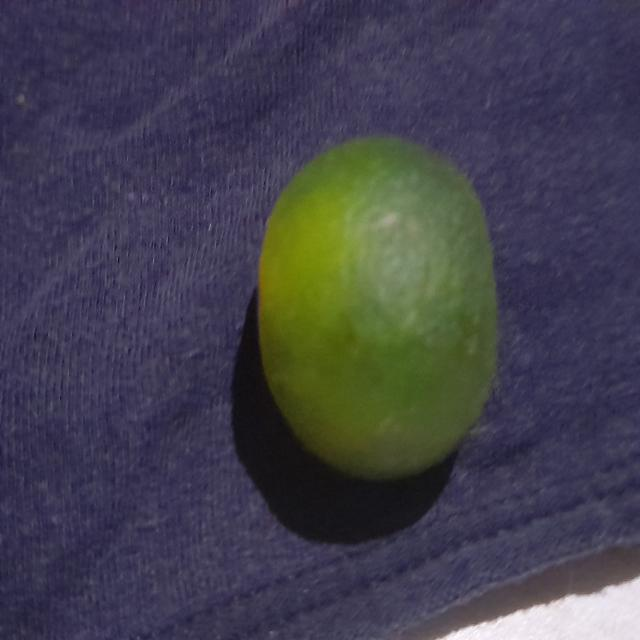heathy: (245, 134, 508, 484)
